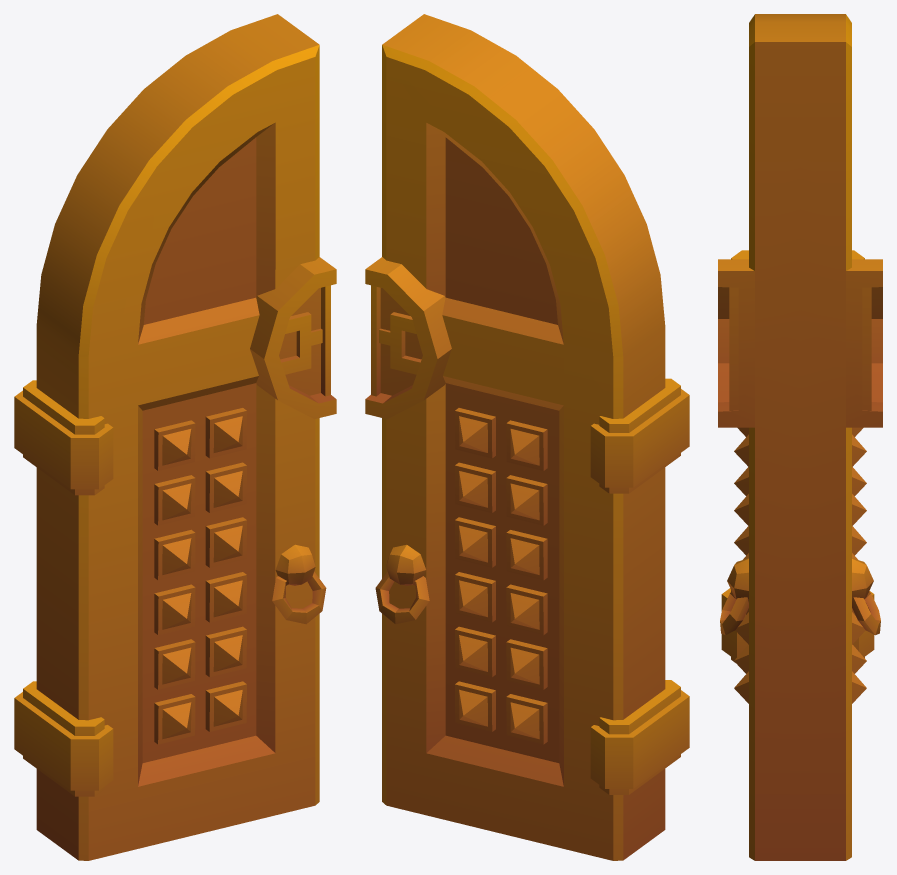
The model's file is door_left.glb.
3 renders of one model, left to right at view 1: azimuth 30°, elevation 25°; view 2: azimuth 150°, elevation 25°; view 3: azimuth 270°, elevation 25°, orthographic. The views are drawn at different scales.
Visible parts, largest first — view 1: door_left; view 2: door_left; view 3: door_left.
Boxes of the visible parts, box(x1,y1,x2,y2) form: door_left: box(14, 14, 336, 860); door_left: box(365, 14, 689, 860); door_left: box(718, 14, 882, 860).
Size of the model in its own units: 1.07 by 3 by 0.5475.
Materials: 1 (1 with a texture image).
